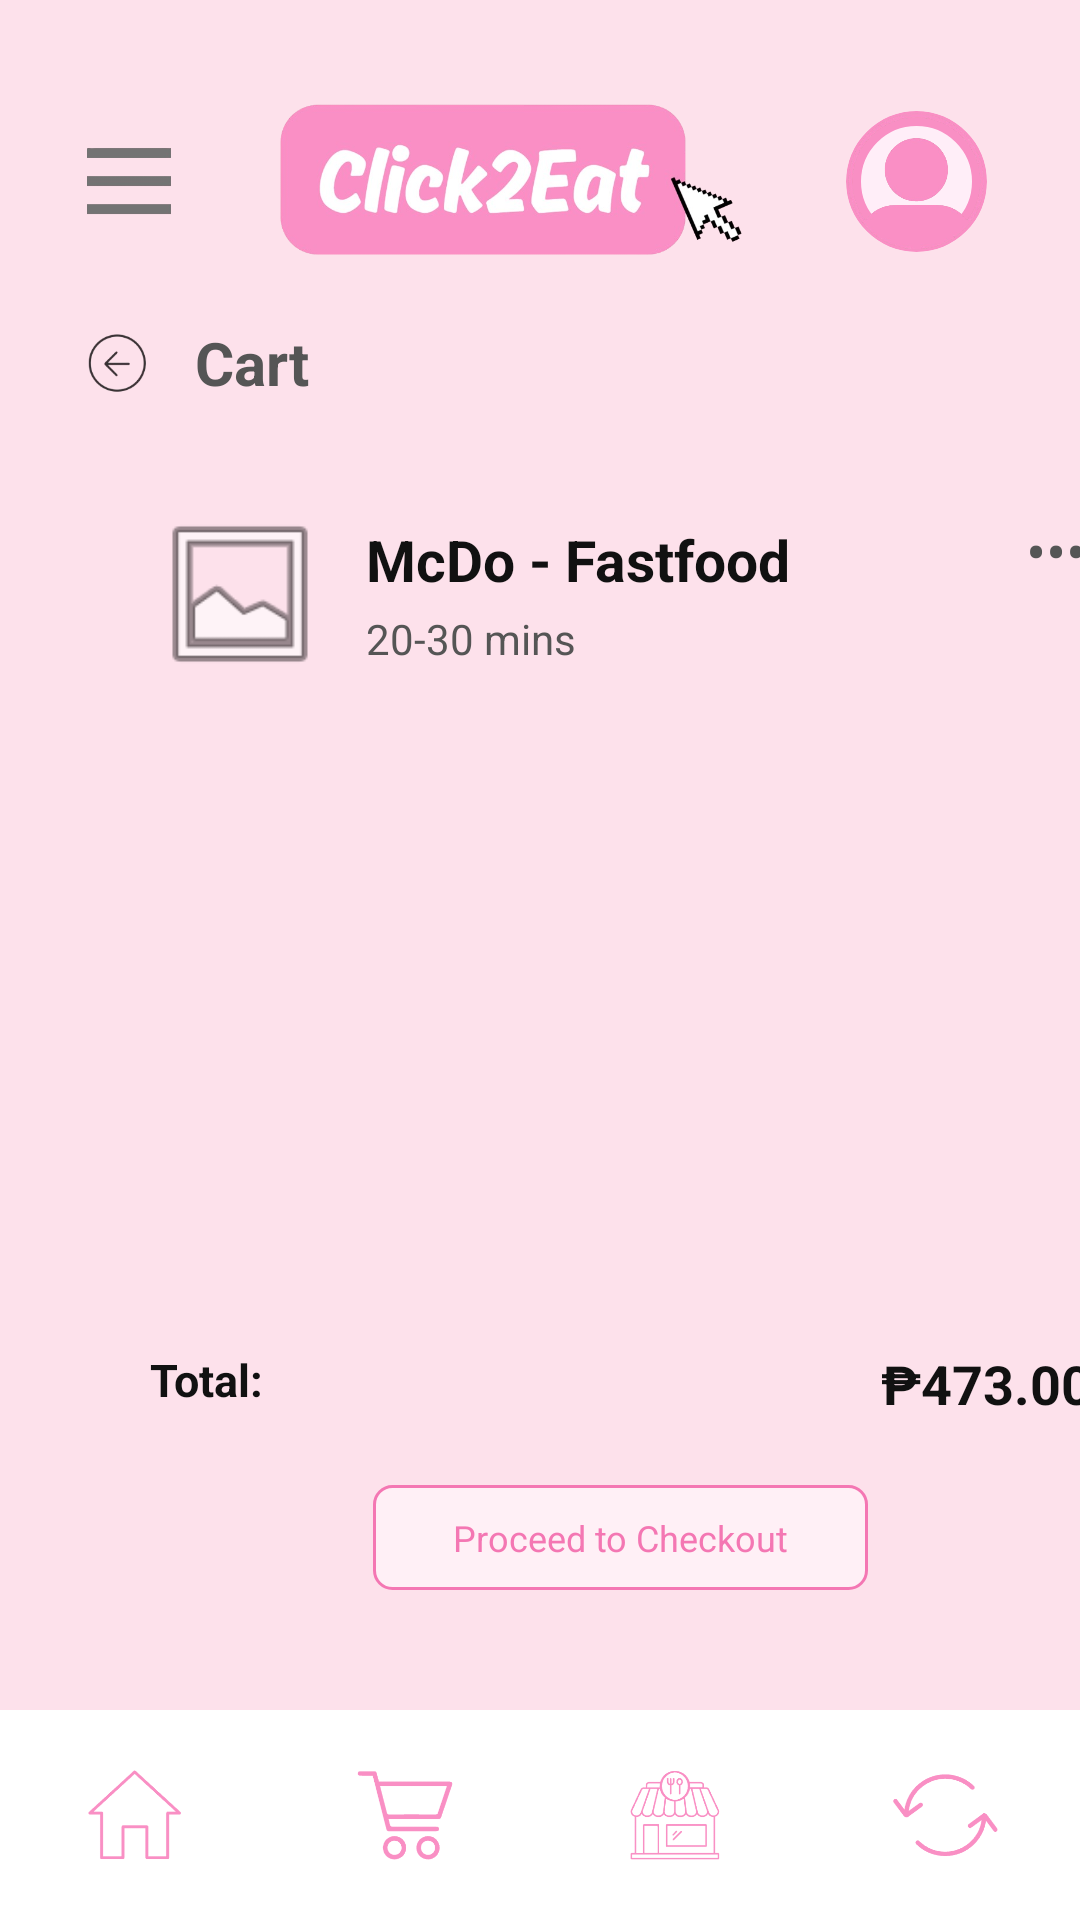

Screen size 1080px×1920px. Icon name, then its center in pixels as [x,y]:
Cart: [405,1815]
Home: [134,1814]
Menu: [129,181]
Open profile: [916,181]
Restaurants: [674,1815]
